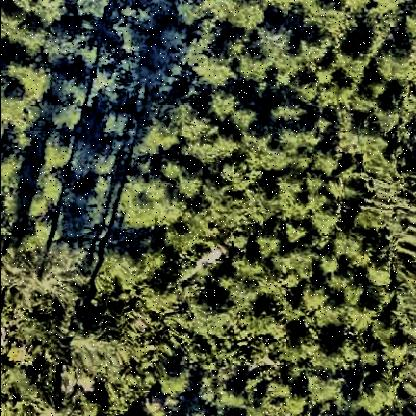tree-top: (1, 232, 89, 316), (70, 308, 140, 376), (115, 170, 187, 232), (92, 242, 156, 306), (39, 22, 95, 72), (195, 59, 243, 111), (180, 122, 238, 162), (194, 47, 240, 91), (361, 373, 408, 416), (277, 324, 320, 369), (374, 42, 416, 88), (205, 1, 269, 31), (12, 60, 56, 103), (333, 227, 375, 271), (251, 22, 295, 62), (331, 44, 376, 83), (1, 6, 39, 50), (366, 1, 412, 37), (307, 369, 345, 411), (394, 276, 416, 346), (245, 305, 285, 343), (1, 152, 24, 216), (208, 87, 246, 125), (260, 226, 305, 258), (279, 247, 319, 283), (19, 2, 75, 27), (343, 300, 380, 337), (163, 214, 200, 251), (144, 119, 180, 157), (297, 37, 333, 73), (92, 68, 124, 108), (42, 134, 77, 170), (156, 21, 193, 55), (271, 99, 311, 129), (175, 168, 209, 202), (216, 383, 250, 415), (300, 282, 333, 314), (68, 1, 118, 22), (100, 112, 132, 144), (158, 370, 191, 401), (232, 252, 265, 282), (254, 272, 284, 302), (253, 234, 283, 262), (369, 318, 399, 346), (283, 221, 311, 249), (141, 396, 173, 416), (327, 272, 353, 296), (218, 271, 240, 295)
